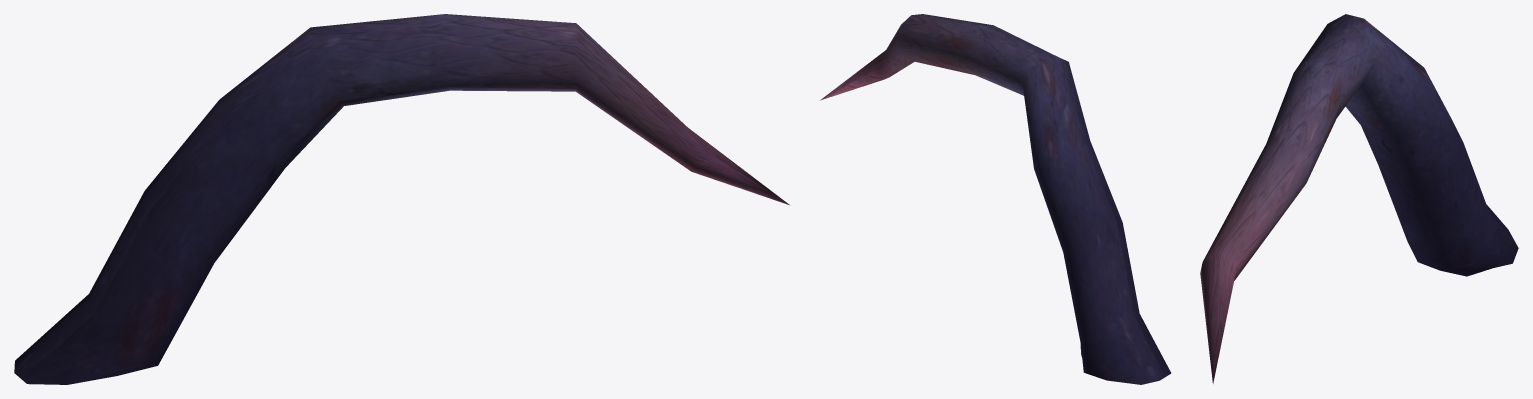
The model's file is desert_Monsterleg02.FBX.
3 views of the same model, side by side, from view 1: azimuth 30°, elevation 25°; view 2: azimuth 150°, elevation 25°; view 3: azimuth 270°, elevation 25° (orthographic). The views are drawn at different scales.
Parts seen in each view (by area): view 1: Object017; view 2: Object017; view 3: Object017.
Part boxes in pixels (<box>): Object017: <box>14,14,789,384</box>; Object017: <box>820,14,1171,384</box>; Object017: <box>1200,14,1518,383</box>.
Bounding box in the file's own units: 39.62 × 20.69 × 19.37.
